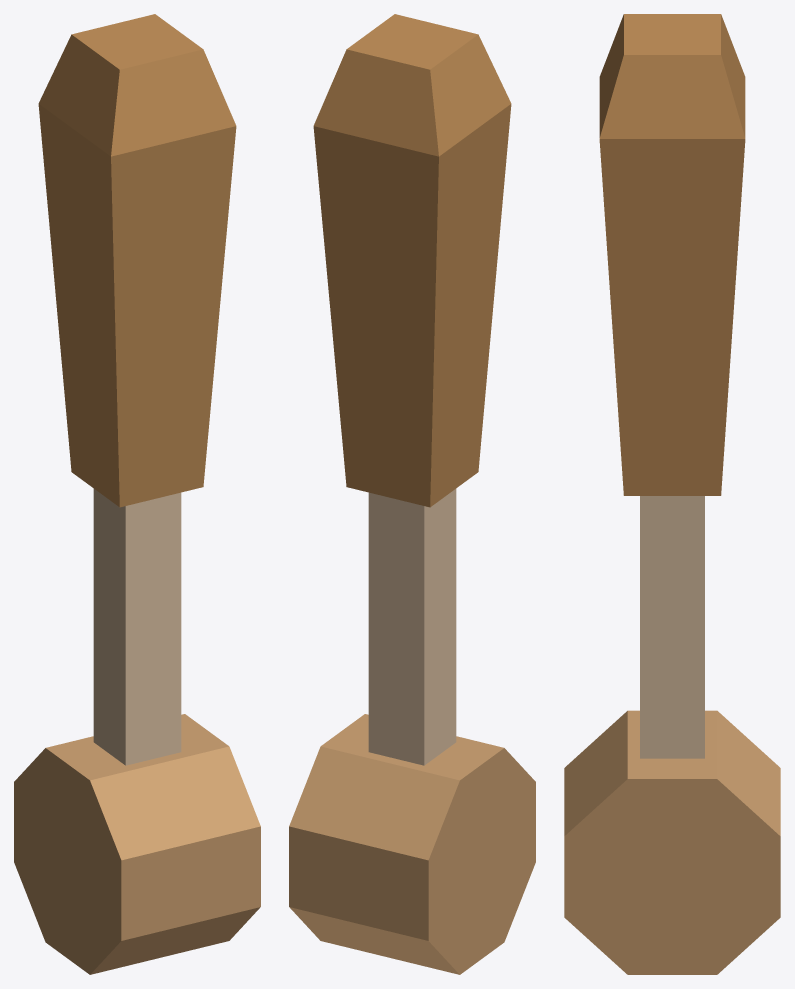
File: Inter_levier.glb
The picture shows the model from 3 angles, left to right: view 1: azimuth 30°, elevation 25°; view 2: azimuth 150°, elevation 25°; view 3: azimuth 270°, elevation 25°; orthographic projection.
Parts seen in each view (by area): view 1: mergedBlocks(Clone); view 2: mergedBlocks(Clone); view 3: mergedBlocks(Clone).
Boxes of the visible parts, x1,y1,x2,y2 form: mergedBlocks(Clone): [14, 14, 260, 974]; mergedBlocks(Clone): [289, 14, 535, 974]; mergedBlocks(Clone): [564, 14, 780, 974].
Size of the model in its own units: 0.36 by 2.22 by 0.48.
